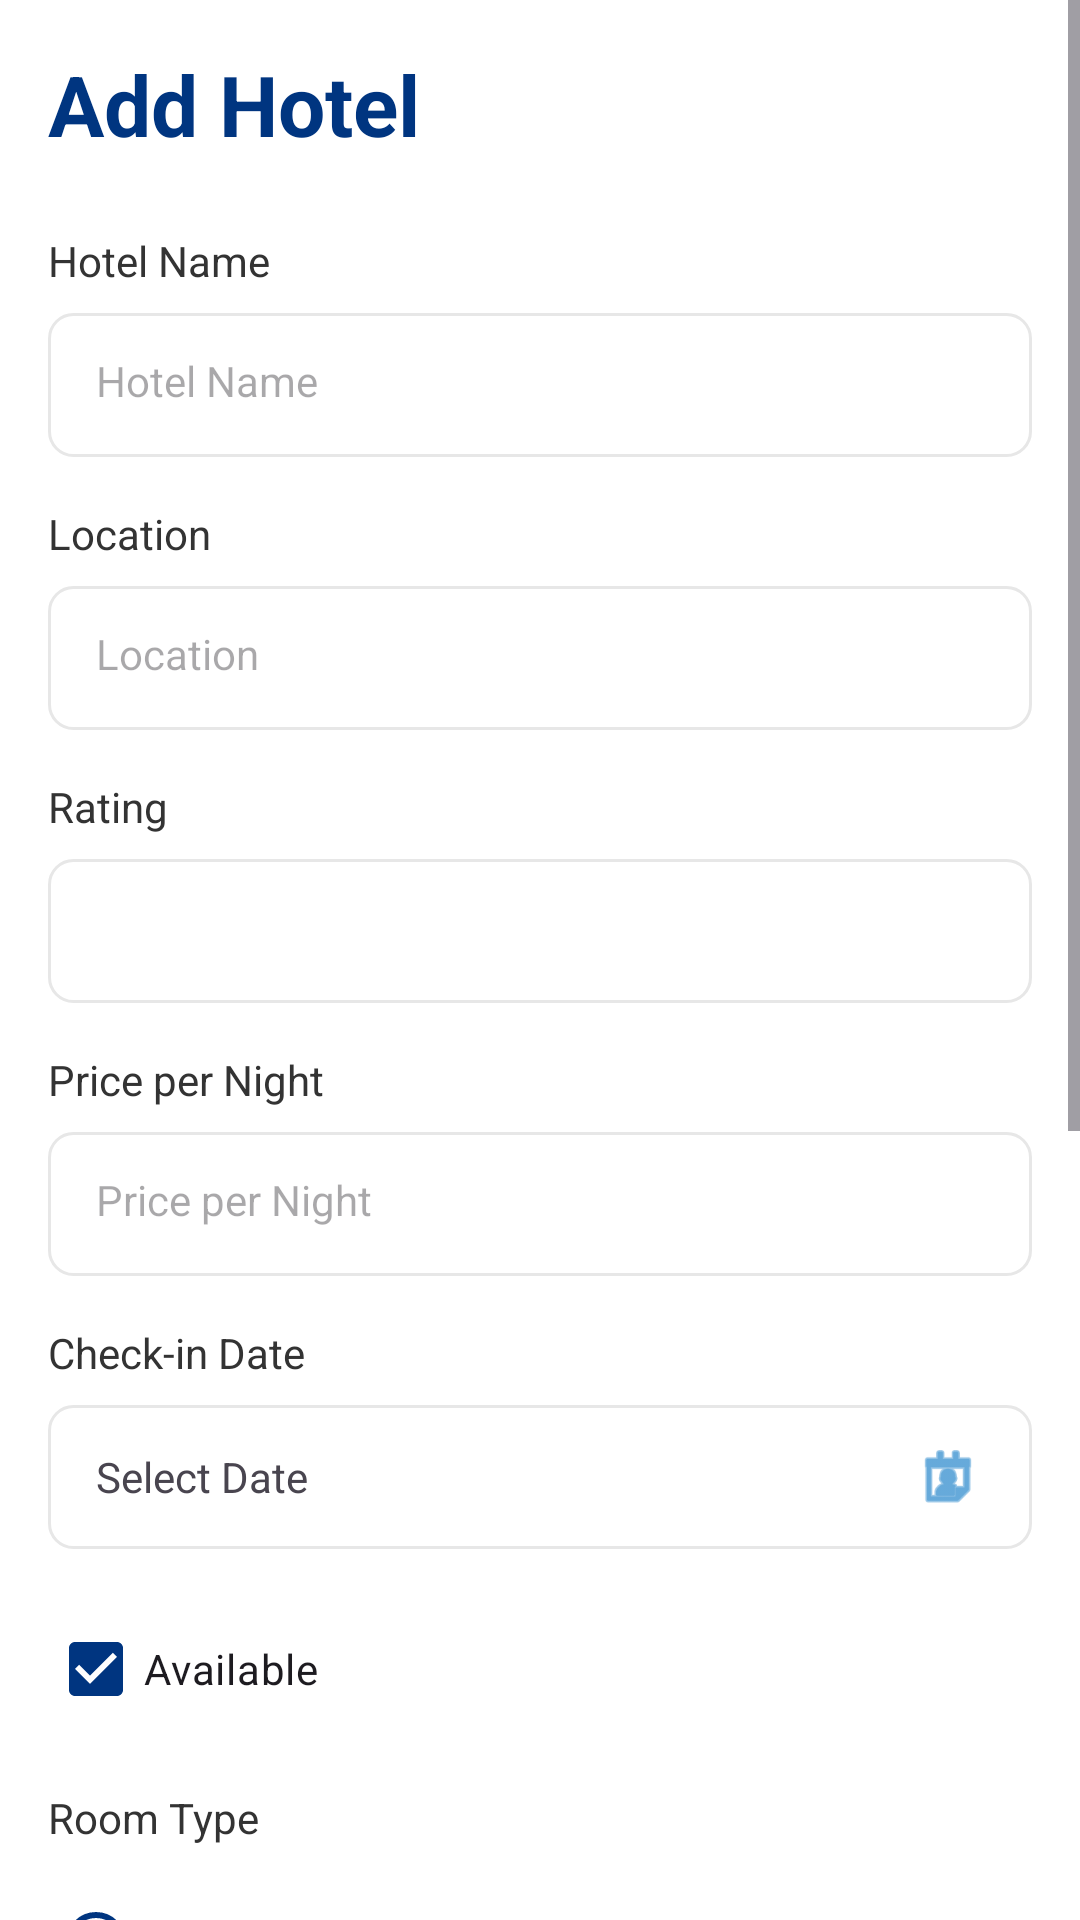

Point at icon controls on the screen. Image size 1080×1920, points as point (x, y).
calendar: point (948, 1476)
